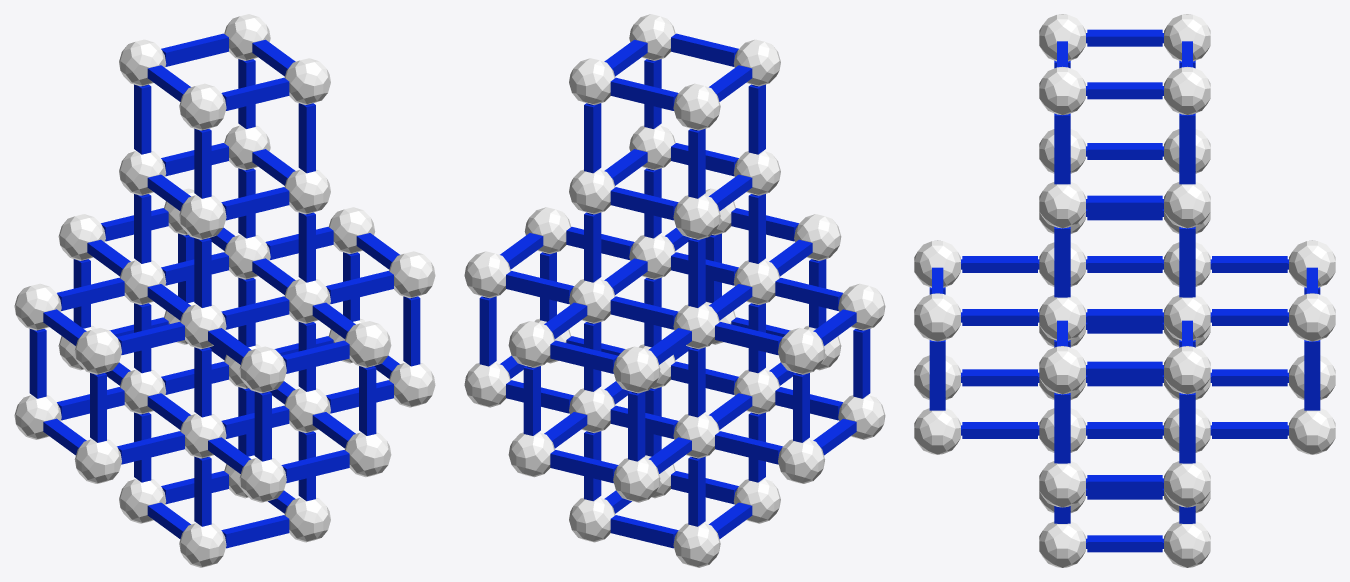
File: totoro_out.obj
The picture shows the model from 3 angles, left to right: view 1: azimuth 30°, elevation 25°; view 2: azimuth 150°, elevation 25°; view 3: azimuth 270°, elevation 25°; orthographic projection. The views are drawn at different scales.
Size of the model in its own units: 160 by 207 by 160.
